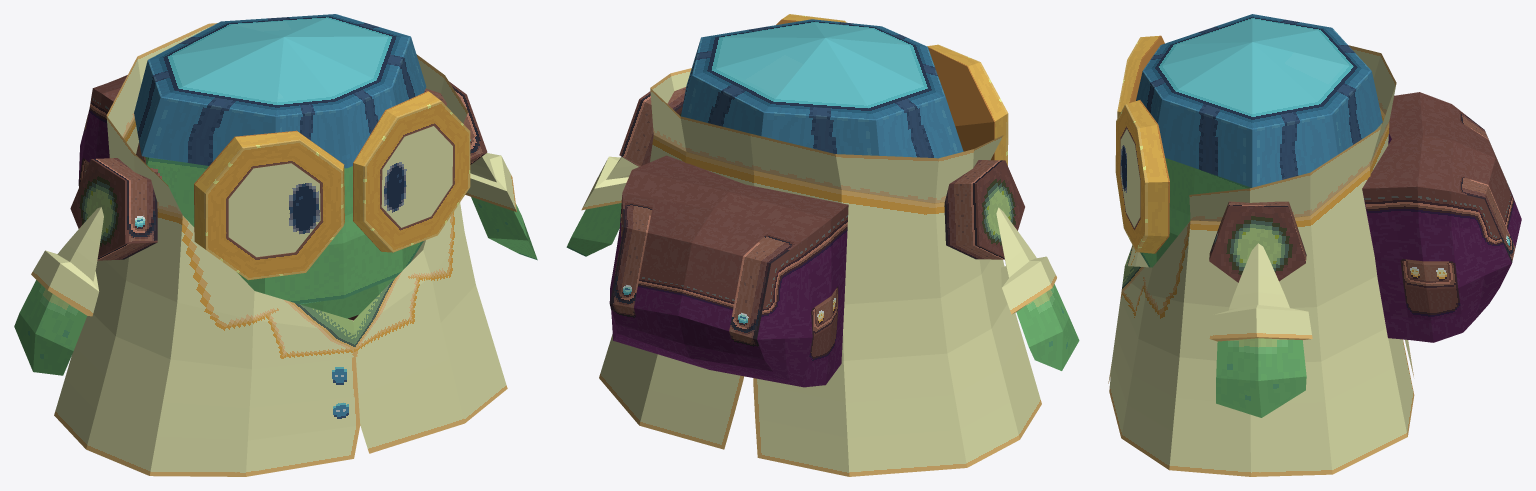
File: quickchew.glb
3 views of the same model, side by side, from view 1: azimuth 30°, elevation 25°; view 2: azimuth 150°, elevation 25°; view 3: azimuth 270°, elevation 25° (orthographic). The views are drawn at different scales.
Visible parts, largest first — view 1: Cube.023, Cube.028, eyering-R.002, eyering-R.001, Cube.021, eyering-R.003, Cube.027, Cylinder.001, Cube.025, Cube.029, Cube.012, Cube.026 (+1 smaller); view 2: Cube.023, Cube.029, Cube.028, Cylinder.001, Cube.027, eyering-R.001, Cube.025, Cylinder.002, Cube.012; view 3: Cube.023, Cube.028, Cube.029, Cube.025, eyering-R.002, Cylinder.002, Cube.021, Cube.018, eyering-R.001.
Boxes of the visible parts, x1=… form: Cube.023: x1=54, y1=23, x2=507, y2=476; Cube.028: x1=134, y1=14, x2=426, y2=168; eyering-R.002: x1=353, y1=91, x2=470, y2=252; eyering-R.001: x1=194, y1=130, x2=344, y2=280; Cube.021: x1=136, y1=142, x2=423, y2=303; eyering-R.003: x1=228, y1=163, x2=320, y2=257; Cube.027: x1=14, y1=250, x2=99, y2=375; Cylinder.001: x1=70, y1=158, x2=157, y2=260; Cube.025: x1=465, y1=153, x2=537, y2=260; Cube.029: x1=78, y1=75, x2=127, y2=187; Cube.012: x1=57, y1=207, x2=103, y2=281; Cube.026: x1=299, y1=277, x2=395, y2=318; Cube.023: x1=599, y1=68, x2=1041, y2=476; Cube.029: x1=609, y1=155, x2=848, y2=387; Cube.028: x1=681, y1=19, x2=963, y2=158; Cylinder.001: x1=944, y1=160, x2=1024, y2=259; Cube.027: x1=1001, y1=256, x2=1079, y2=370; eyering-R.001: x1=927, y1=44, x2=1008, y2=165; Cube.025: x1=566, y1=156, x2=628, y2=256; Cylinder.002: x1=619, y1=87, x2=685, y2=166; Cube.012: x1=996, y1=207, x2=1036, y2=277; Cube.023: x1=1108, y1=45, x2=1414, y2=476; Cube.028: x1=1136, y1=14, x2=1382, y2=187; Cube.029: x1=1362, y1=92, x2=1521, y2=342; Cube.025: x1=1209, y1=304, x2=1312, y2=417; eyering-R.002: x1=1115, y1=100, x2=1169, y2=253; Cylinder.002: x1=1209, y1=201, x2=1306, y2=282; Cube.021: x1=1140, y1=158, x2=1251, y2=267; Cube.018: x1=1229, y1=243, x2=1289, y2=310; eyering-R.001: x1=1117, y1=35, x2=1164, y2=118.
Bounding box in the file's own units: 4.8 × 3.49 × 3.72.
Materials: 5 (5 with a texture image).
